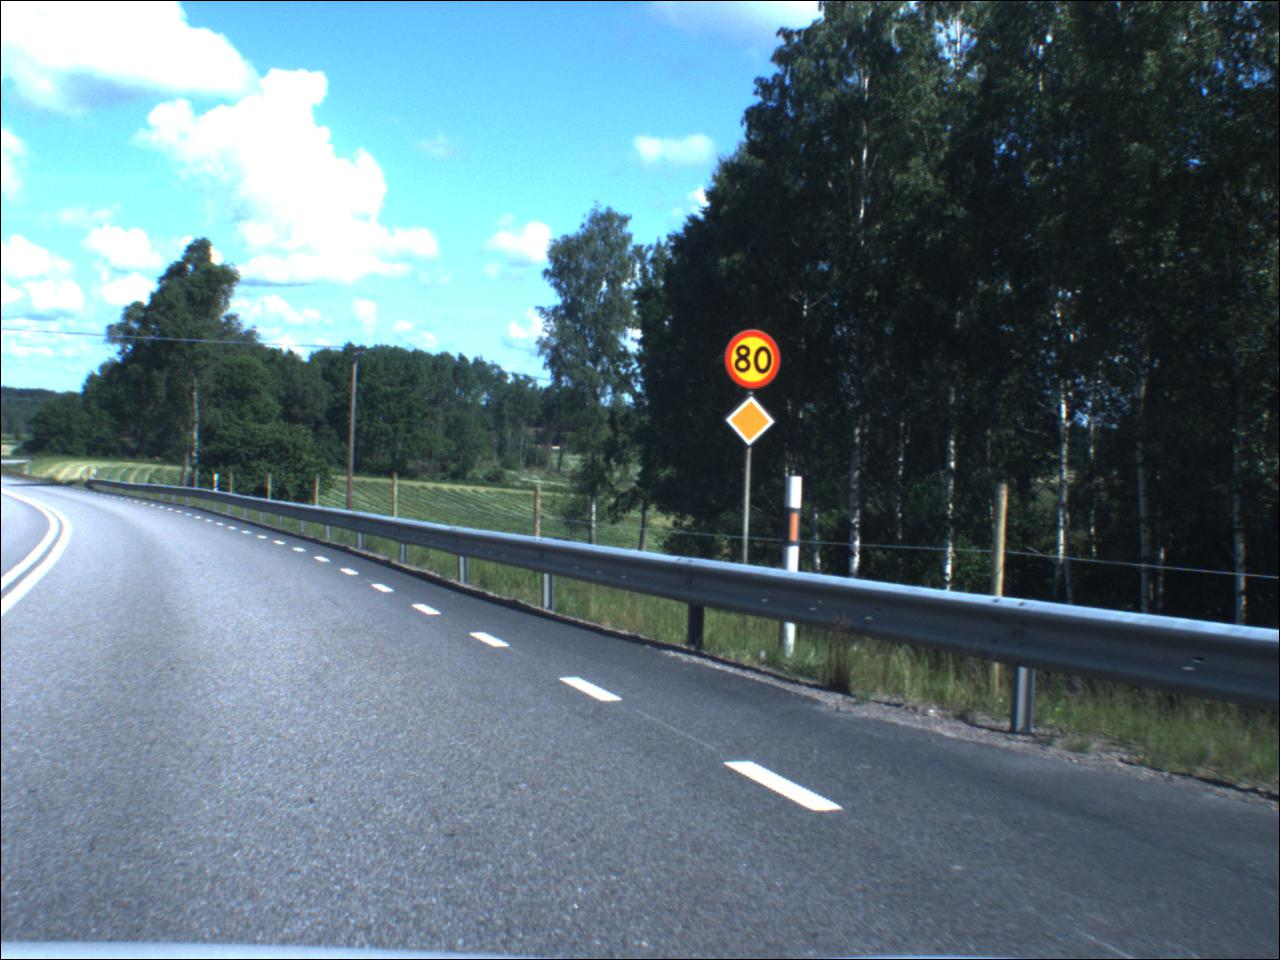80_SIGN: (727, 332, 783, 393)
PRIORITY_ROAD: (725, 397, 779, 448)
